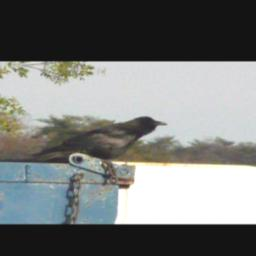Crow: (31, 107, 170, 170)
